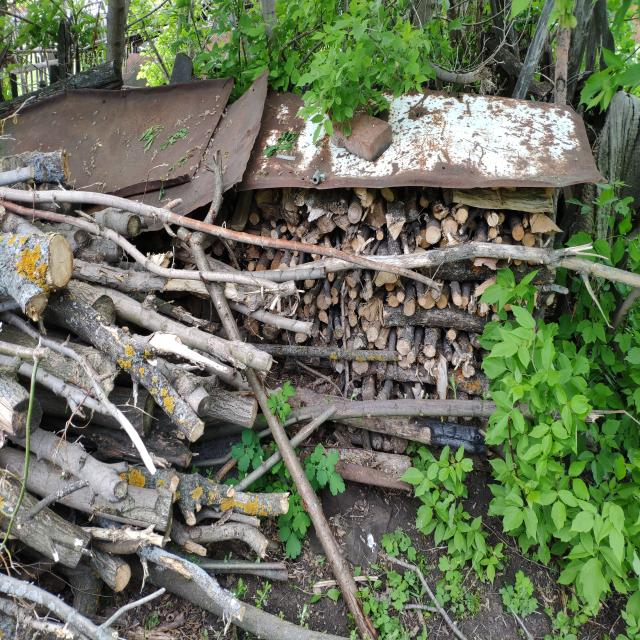restos de madeira: (0, 188, 301, 279), (55, 306, 221, 434), (186, 240, 640, 284), (239, 402, 409, 470), (1, 437, 129, 517), (134, 543, 243, 631), (36, 341, 127, 434), (0, 570, 116, 639), (134, 453, 223, 537), (1, 215, 75, 312), (380, 194, 473, 268), (252, 194, 372, 250), (5, 359, 56, 446), (44, 291, 124, 346), (373, 273, 437, 341), (478, 199, 542, 262), (341, 272, 389, 353), (312, 346, 366, 414), (496, 398, 610, 427), (396, 558, 443, 624), (386, 332, 435, 388), (263, 342, 387, 364), (302, 276, 351, 330), (208, 522, 272, 562), (243, 308, 318, 340), (432, 341, 476, 390), (410, 398, 498, 422), (221, 488, 284, 520), (440, 286, 481, 335), (165, 518, 217, 555), (382, 552, 429, 576), (310, 576, 378, 590), (362, 374, 377, 400), (454, 207, 469, 224)
